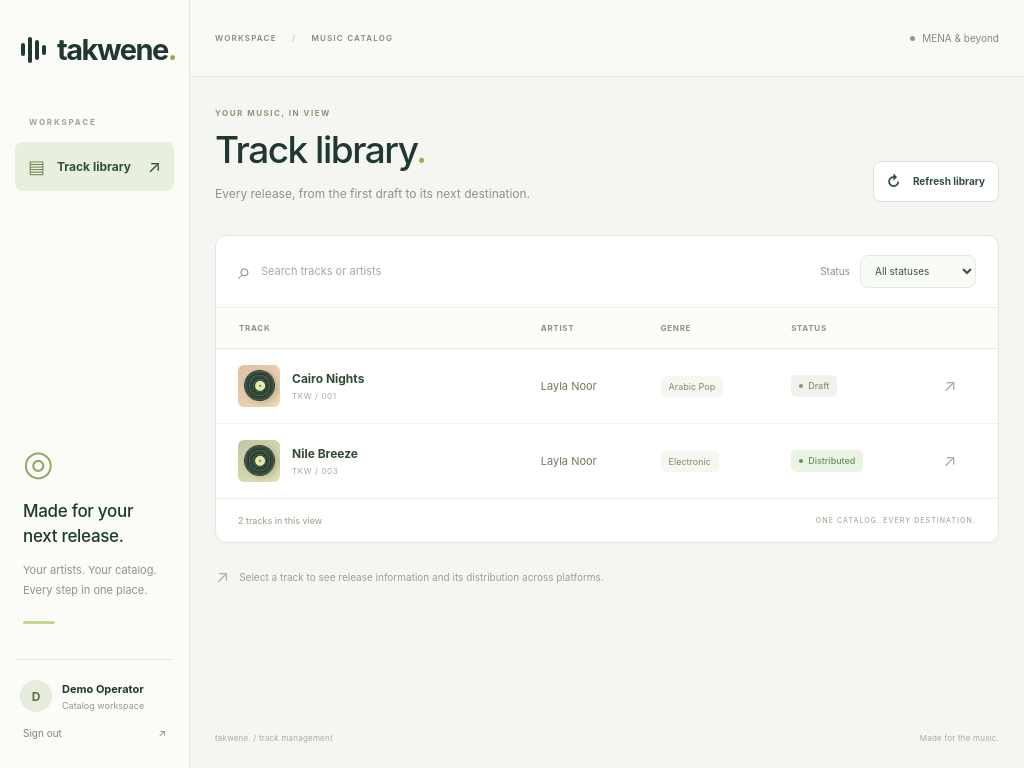
Test case: catalog views › shows a clear empty-search state and can reset filters
Expected: the link "Cairo Nights" is shown, [292,371,364,386]
Type "no such track" into the search field labelled "Search tracks or artists" at (409, 271), box [261,255,558,287]
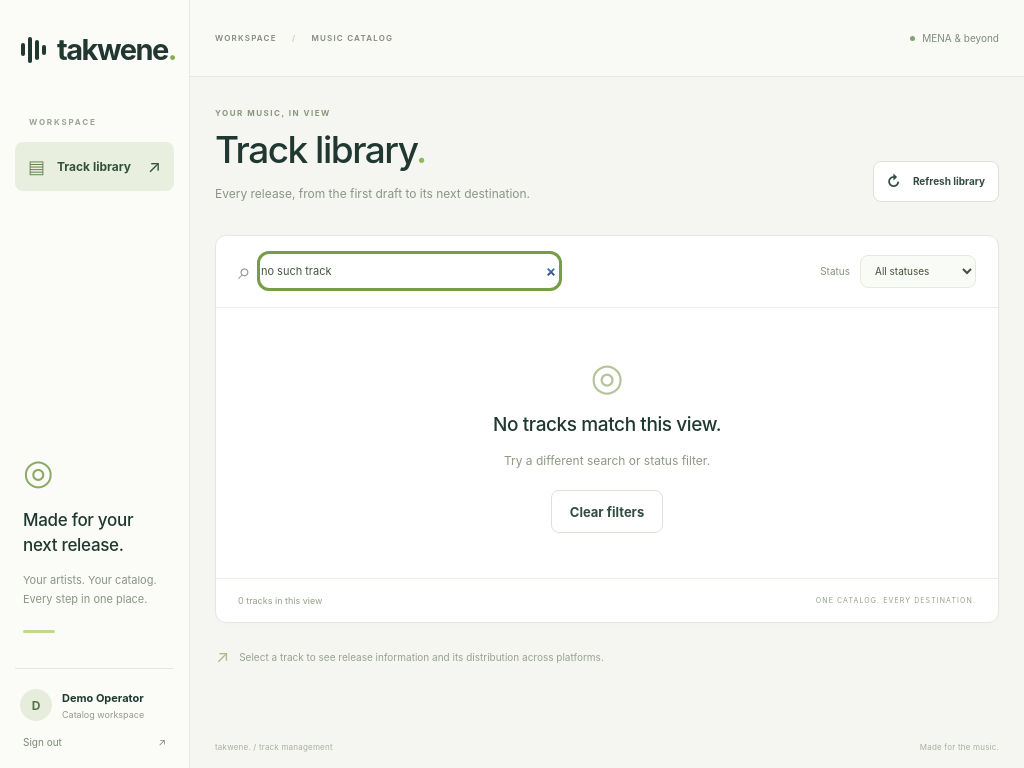
Expected: the heading "No tracks match this view." is shown, [493,413,721,436]
Click the button "Clear filters" at (607, 512), box [551,490,663,533]
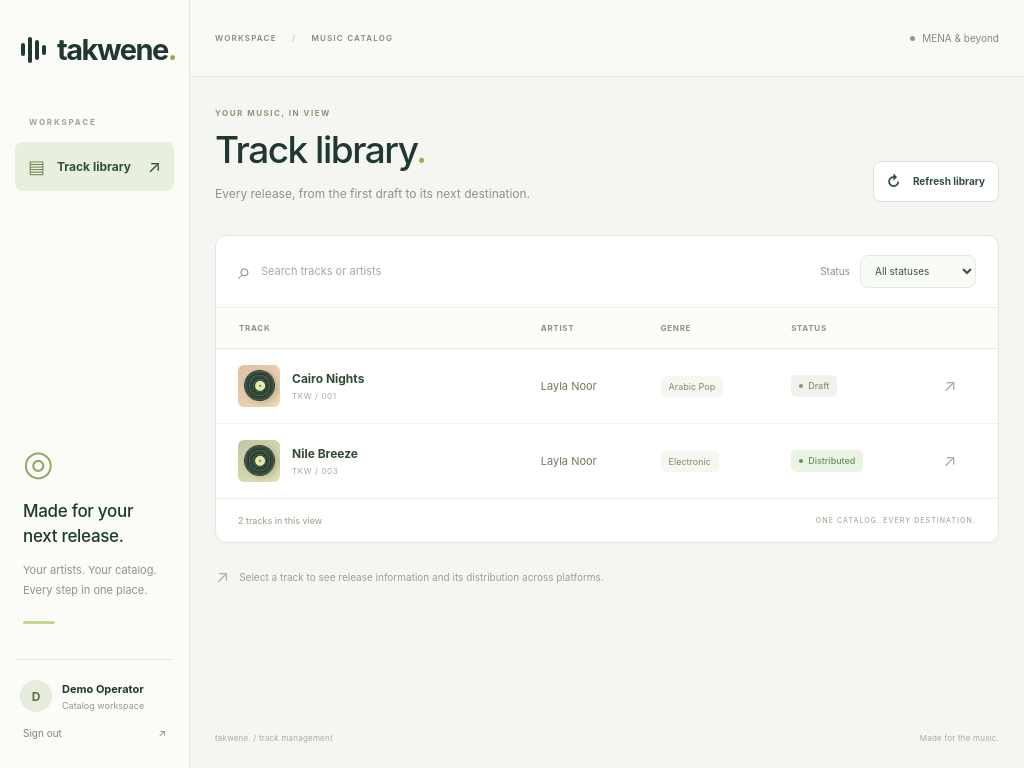
Expected: the link "Cairo Nights" is shown, [292,371,364,386]
